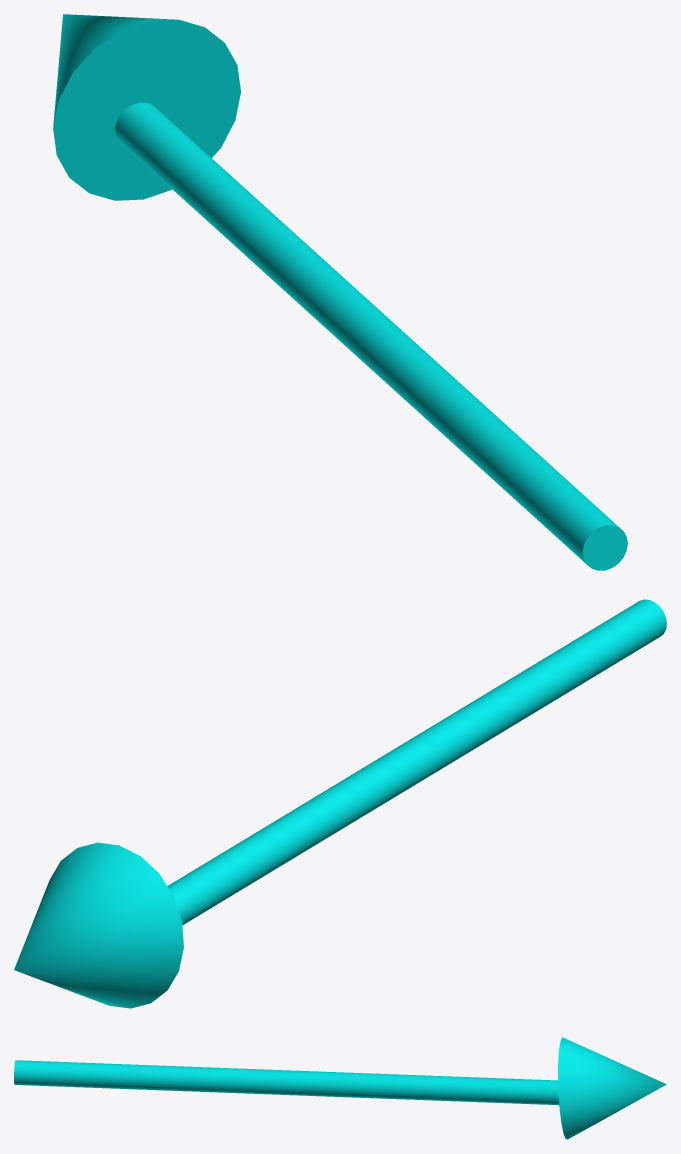
The model's file is hyp_1_arrow.fbx.
The picture shows the model from 3 angles, top to bottom: view 1: azimuth 30°, elevation 25°; view 2: azimuth 150°, elevation 25°; view 3: azimuth 270°, elevation 25°; orthographic projection. The views are drawn at different scales.
Parts seen in each view (by area): view 1: HYP_1_ARROW; view 2: HYP_1_ARROW; view 3: HYP_1_ARROW.
Boxes of the visible parts, x1,y1,x2,y2 form: HYP_1_ARROW: (53,14,627,570); HYP_1_ARROW: (14,599,666,1008); HYP_1_ARROW: (14,1037,666,1139).
Bounding box in the file's own units: 0.9358 × 0.8235 × 5.24.
